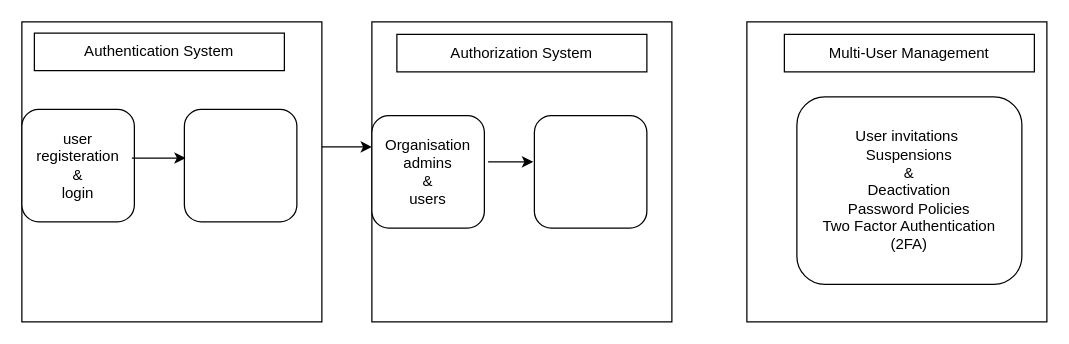
Image size: 1069x344. Some labels were removed from this diagram. Each missing label, with the centre of its shape:
Access control & Data visibility: the point at 590,171
role-based authentication: the point at 240,165
